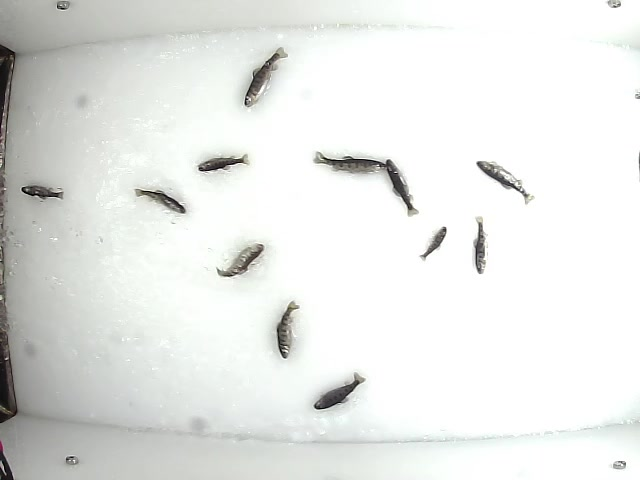fish: (241, 44, 289, 111), (475, 158, 538, 207), (312, 370, 367, 412), (384, 158, 420, 217), (312, 150, 392, 176), (213, 241, 264, 281), (273, 298, 301, 361), (133, 186, 187, 213), (469, 215, 492, 277), (195, 152, 250, 177), (416, 222, 448, 264), (19, 184, 67, 202)
